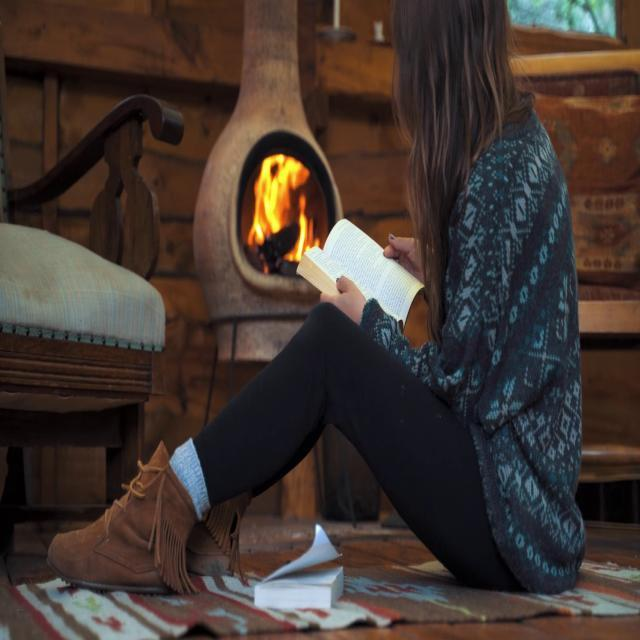Fire: (246, 154, 320, 269)
